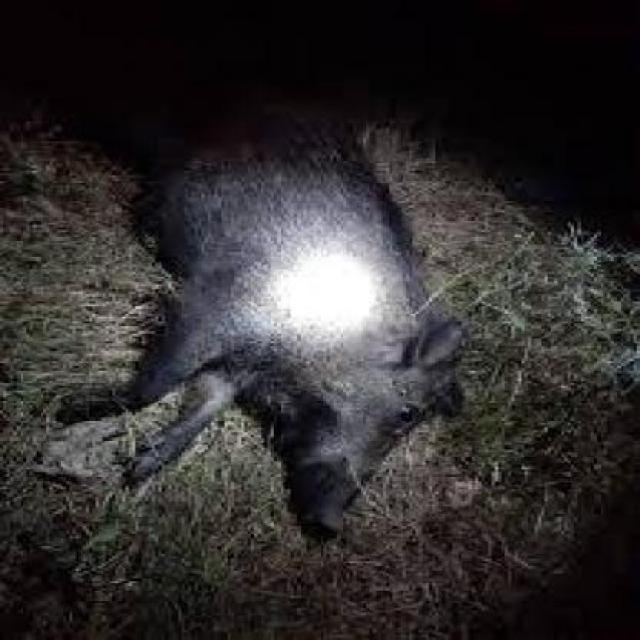wildboar: (30, 0, 484, 566)
